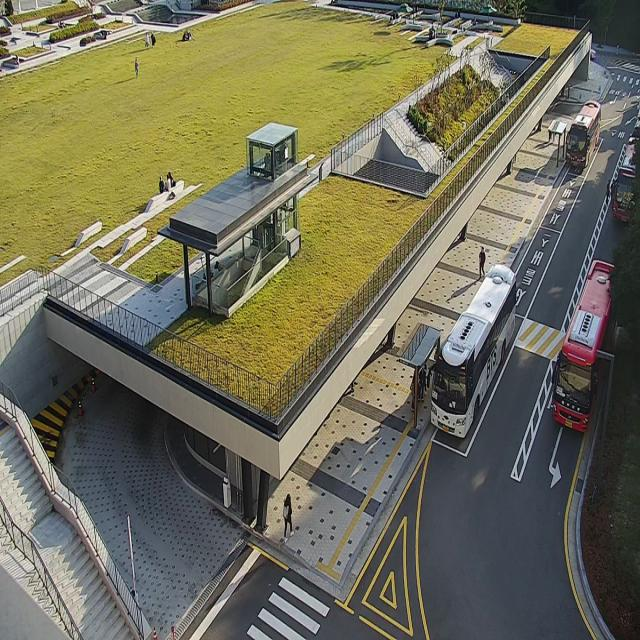queue: (417, 330, 441, 433)
